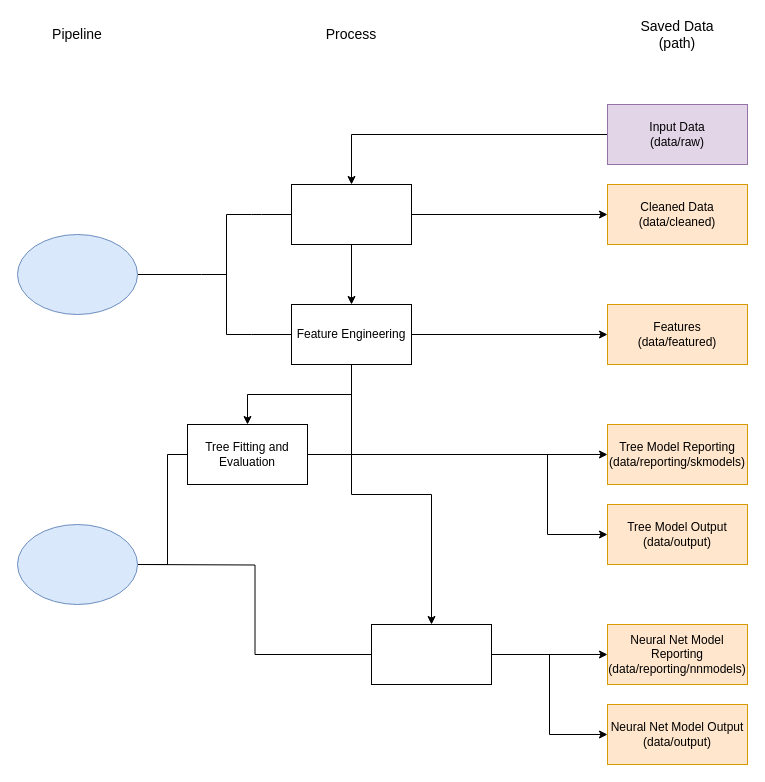
The diagram is 765 pixels wide and 782 high, and some of its shapes have lost their labels. Each missing label, with the box of its shape:
Data Cleaning: (290, 184, 412, 244)
Data Engineering: (16, 234, 138, 314)
Data Science: (16, 524, 138, 604)
Neural Network Fitting and Evaluation: (370, 624, 492, 684)
